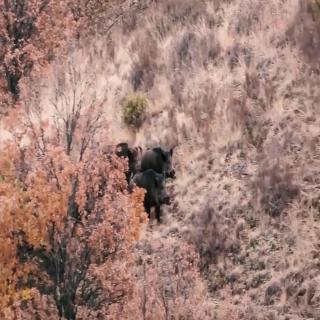Pig: (140, 139, 184, 182), (137, 175, 175, 212), (117, 132, 140, 174)
